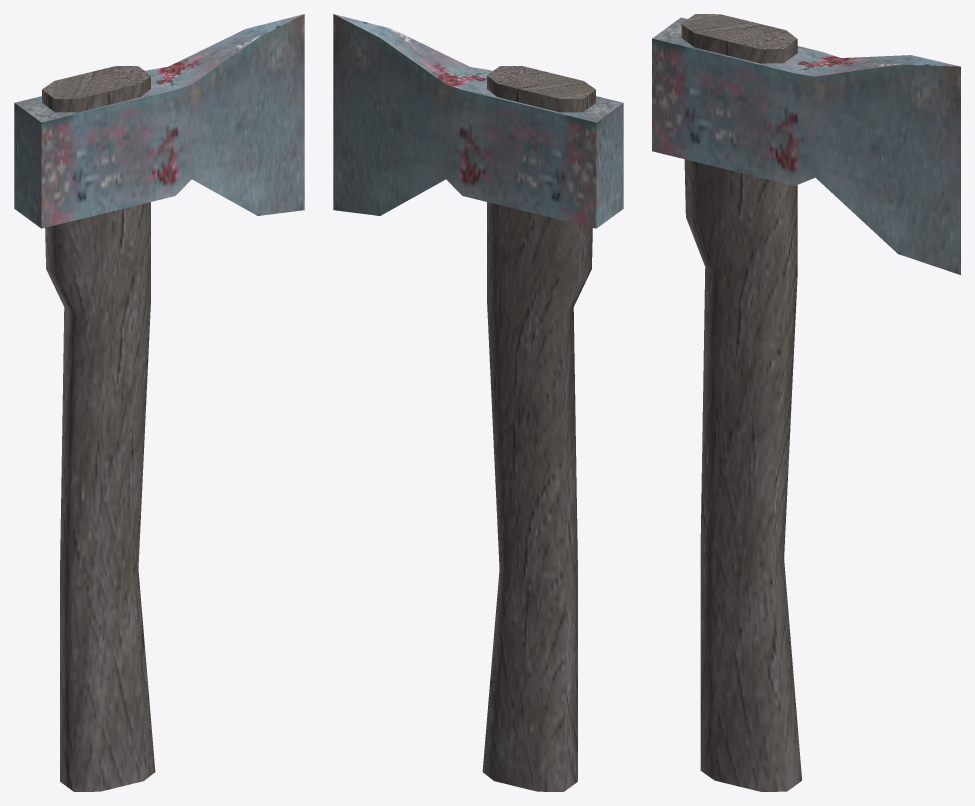
Rendered from Axe.glb.
3 renders of one model, left to right at view 1: azimuth 30°, elevation 25°; view 2: azimuth 150°, elevation 25°; view 3: azimuth 330°, elevation 25°, orthographic. The views are drawn at different scales.
Parts seen in each view (by area): view 1: Axe; view 2: Axe; view 3: Axe.
Boxes of the visible parts, x1,y1,x2,y2 form: Axe: (14, 14, 304, 791); Axe: (333, 14, 623, 791); Axe: (652, 14, 960, 791).
Bounding box in the file's own units: 0.3098 × 0.7646 × 0.0526.
1 material, 1 textured.
